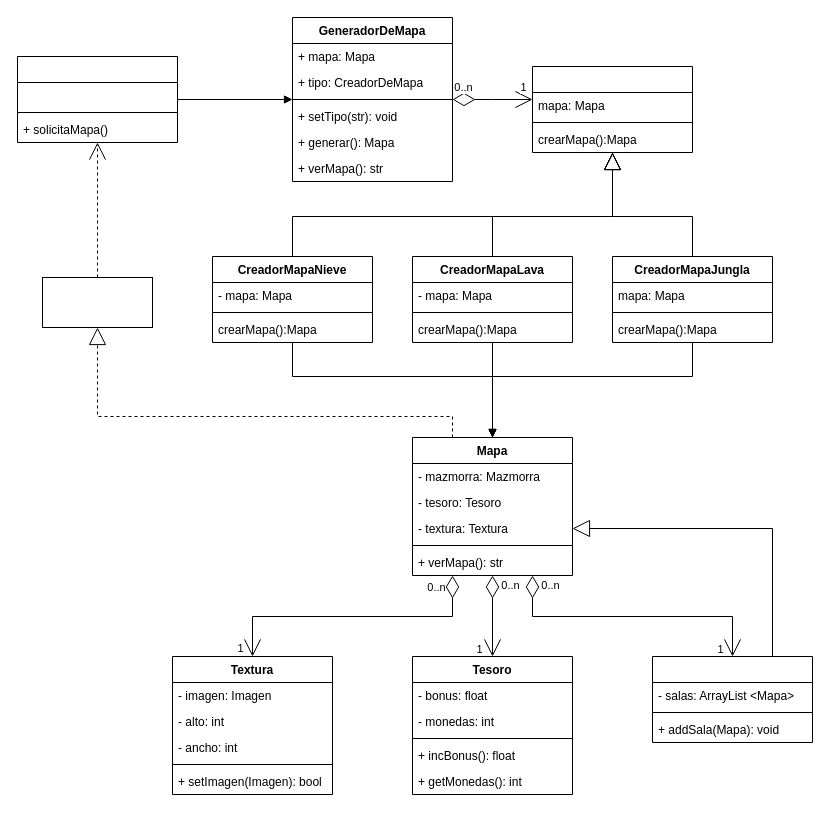
The diagram is 830 pixels wide and 815 high, and some of its shapes have lost their labels. The box of each missing label's shape, as (x1, y1, x2, y2) in pixels:
Cliente: (16, 56, 178, 142)
CreadorDeMapa: (532, 66, 692, 152)
Mazmorra: (652, 656, 812, 742)
«interface» IMapa: (42, 276, 152, 328)
